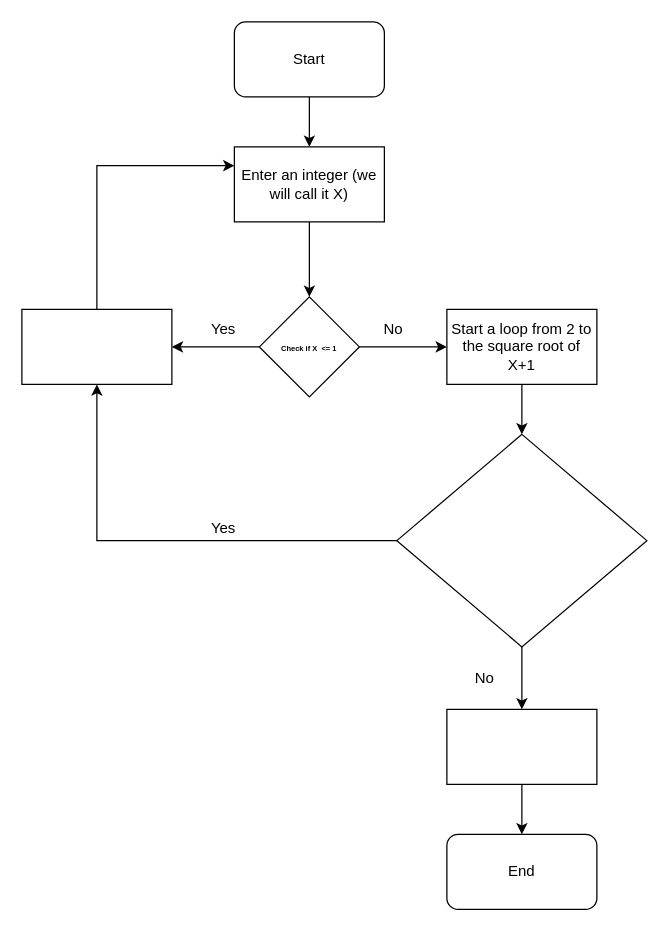
Image size: 669x931. Some labels were removed from this diagram. The shapes that lost their labels are listed below. From the top down, each one's box as (x1, y1, x2, y2) in pixels, then its label:
(21, 308, 172, 384): Reject
(396, 433, 647, 647): Check if X is divisible by the current loop variable
(446, 708, 597, 784): Congrats, it's a prime number !
